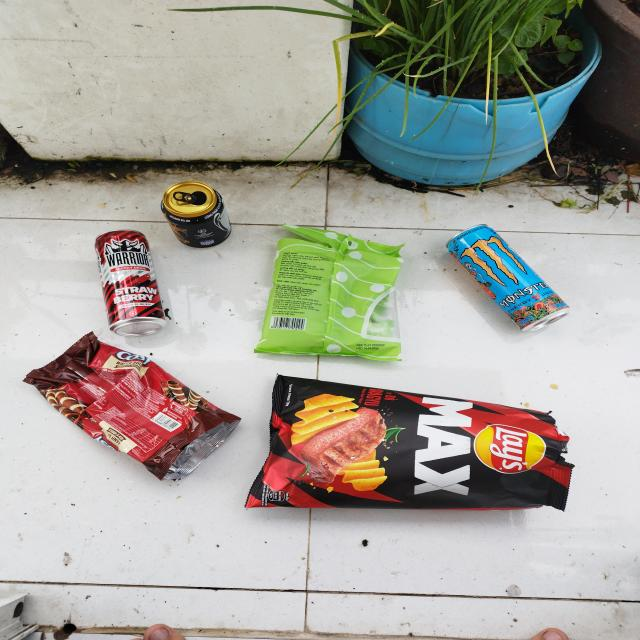can: (445, 225, 571, 332), (94, 229, 166, 337), (161, 180, 233, 248)
snack package: (245, 372, 575, 512), (21, 331, 242, 482), (252, 223, 405, 363)
